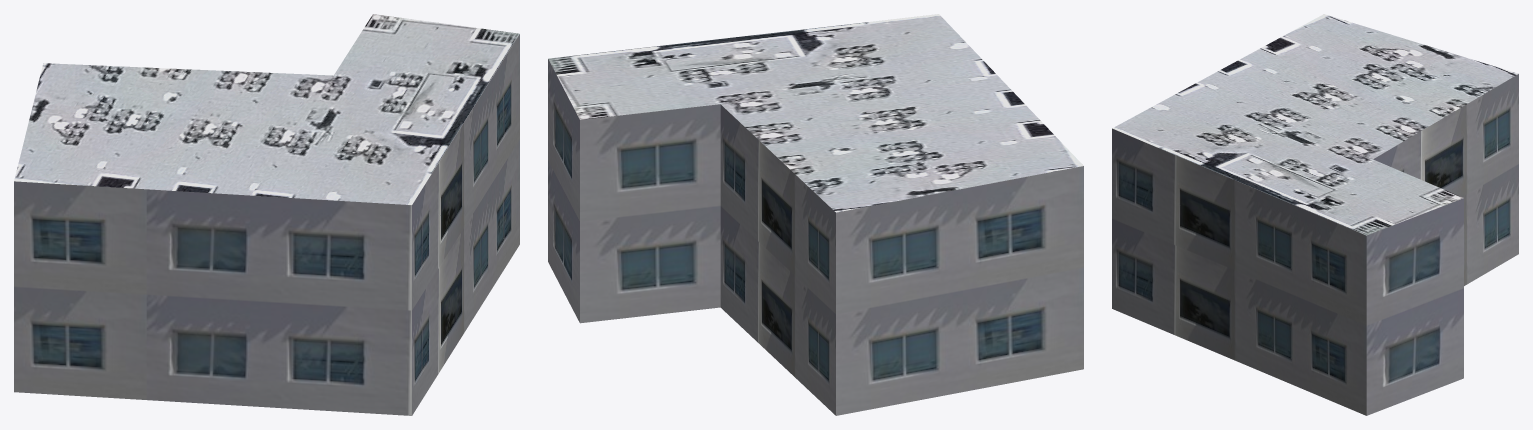
File: ResTex__3603.fbx
The picture shows the model from 3 angles, left to right: view 1: azimuth 30°, elevation 25°; view 2: azimuth 150°, elevation 25°; view 3: azimuth 270°, elevation 25°; orthographic projection. The views are drawn at different scales.
Parts seen in each view (by area): view 1: CityEngineMaterial_10_m, CityEngineMaterial_4_m; view 2: CityEngineMaterial_10_m, CityEngineMaterial_4_m; view 3: CityEngineMaterial_10_m, CityEngineMaterial_4_m.
Boxes of the visible parts, box(x1,y1,x2,y2) form: CityEngineMaterial_10_m: box(14, 34, 519, 415); CityEngineMaterial_4_m: box(14, 14, 519, 204); CityEngineMaterial_10_m: box(548, 59, 1083, 415); CityEngineMaterial_4_m: box(548, 14, 1083, 212); CityEngineMaterial_10_m: box(1112, 74, 1518, 415); CityEngineMaterial_4_m: box(1112, 14, 1518, 235).
Bounding box in the file's own units: 15.81 × 6 × 12.26.
2 materials, 2 textured.
